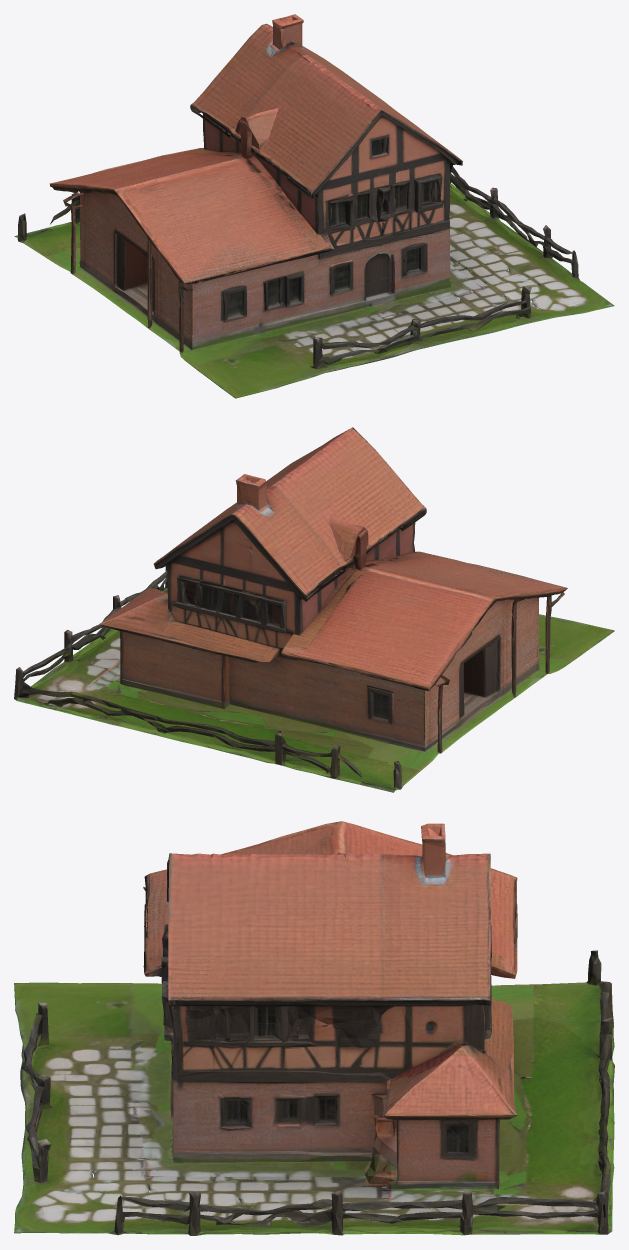
File: Frombork_Copernicus__0526195800_texture.fbx
The picture shows the model from 3 angles, top to bottom: view 1: azimuth 30°, elevation 25°; view 2: azimuth 150°, elevation 25°; view 3: azimuth 270°, elevation 25°; orthographic projection. The views are drawn at different scales.
Visible parts, largest first — view 1: temp; view 2: temp; view 3: temp.
Part boxes in pixels (<box>): temp: <box>14,14,614,398</box>; temp: <box>14,427,614,792</box>; temp: <box>14,821,614,1235</box>.
Size of the model in its own units: 200 by 107 by 200.
Materials: 1 (1 with a texture image).
